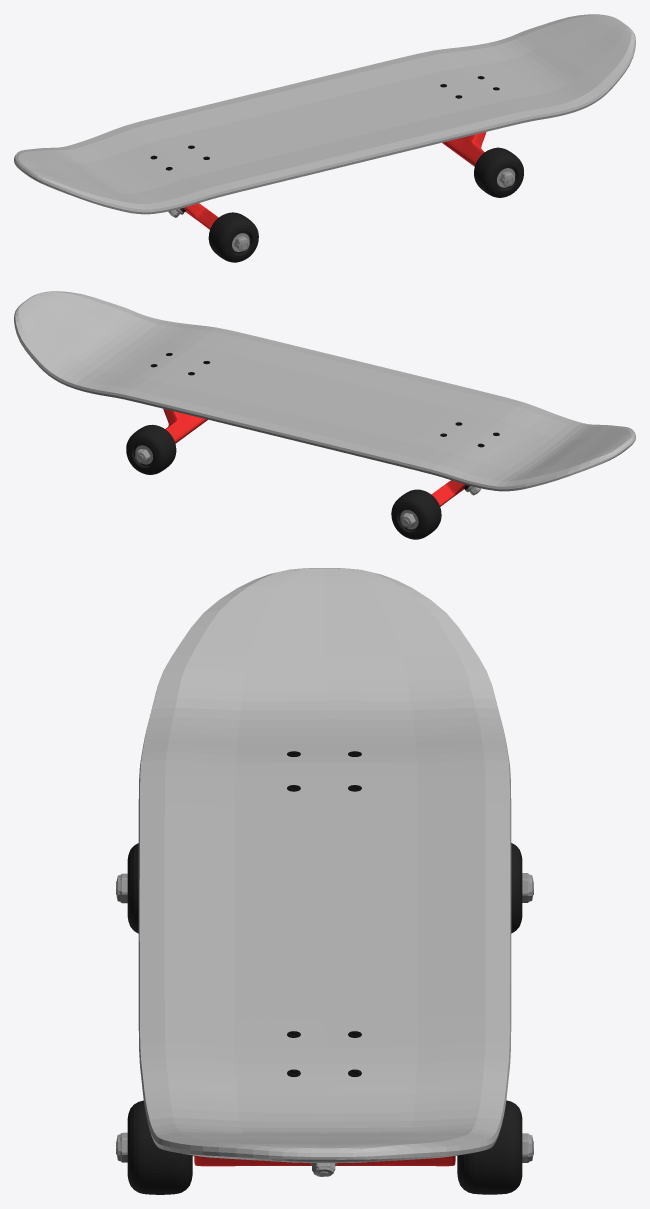
Rendered from skateboard1.fbx.
3 views of the same model, one above another, from view 1: azimuth 30°, elevation 25°; view 2: azimuth 150°, elevation 25°; view 3: azimuth 270°, elevation 25° (orthographic). The views are drawn at different scales.
Visible parts, largest first — view 1: skateboard; view 2: skateboard; view 3: skateboard.
Boxes of the visible parts, box(x1,y1,x2,y2) form: skateboard: box(14, 14, 635, 262); skateboard: box(14, 291, 635, 539); skateboard: box(116, 568, 533, 1194).
Bounding box in the file's own units: 7.41 × 1.19 × 2.23.
